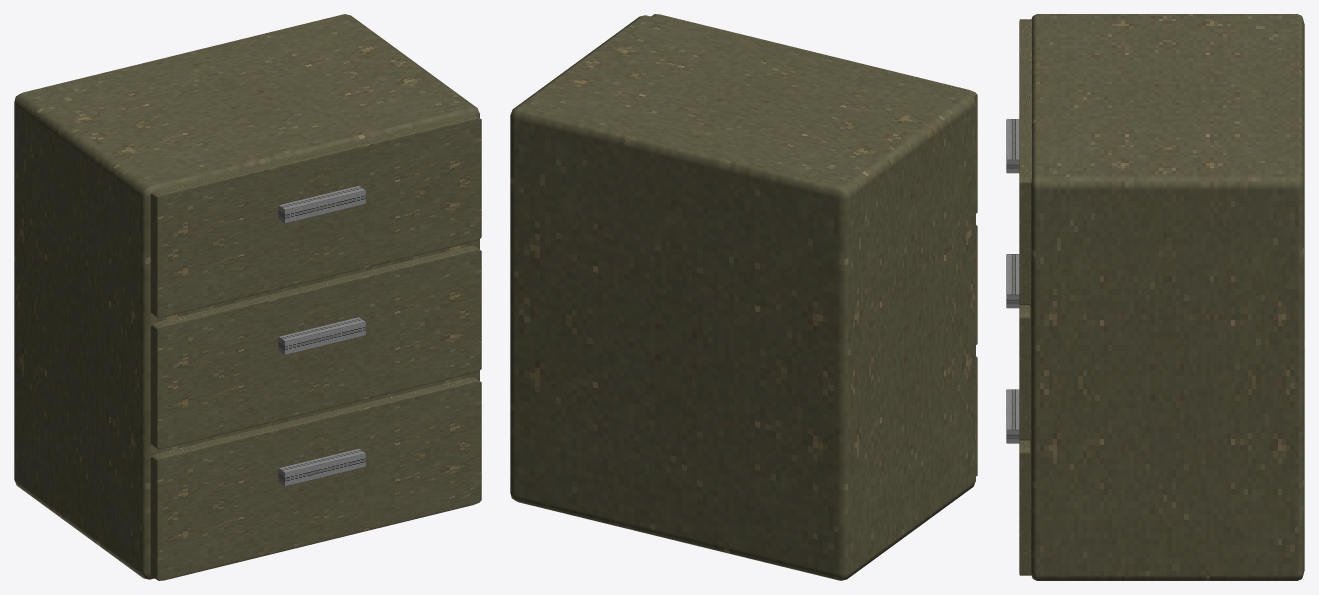
Rendered from base-cab.glb.
The picture shows the model from 3 angles, left to right: view 1: azimuth 30°, elevation 25°; view 2: azimuth 150°, elevation 25°; view 3: azimuth 270°, elevation 25°; orthographic projection. The views are drawn at different scales.
Parts seen in each view (by area): view 1: front (×3), case, pull (×3); view 2: case, front; view 3: case, front (×3), pull (×3).
Part boxes in pixels (x1,y1,x2,y2): front (×3): [150, 113, 481, 580]; case: [14, 14, 479, 579]; pull (×3): [278, 186, 365, 486]; case: [510, 15, 975, 580]; front: [651, 14, 977, 213]; case: [1030, 14, 1304, 580]; front (×3): [1019, 19, 1031, 575]; pull (×3): [1006, 119, 1019, 443].
Size of the model in its own units: 0.81 by 0.9 by 0.6.
2 materials, 2 textured.
